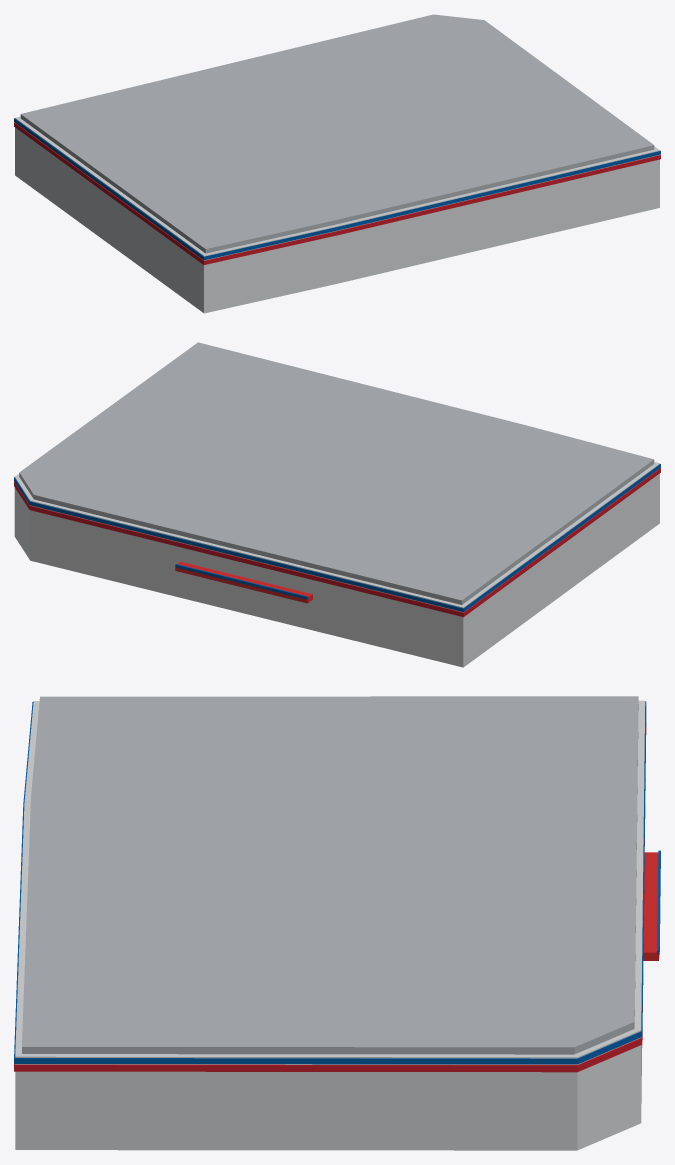
Rendered from costco-taichung.glb.
3 views of the same model, one above another, from view 1: azimuth 30°, elevation 25°; view 2: azimuth 150°, elevation 25°; view 3: azimuth 270°, elevation 25° (orthographic). The views are drawn at different scales.
Visible parts, largest first — view 1: costco-taichung; view 2: costco-taichung; view 3: costco-taichung.
Part boxes in pixels (box(x1,y1,x2,y2)): costco-taichung: box(14, 14, 660, 313); costco-taichung: box(14, 342, 660, 667); costco-taichung: box(14, 696, 660, 1150).
Bounding box in the file's own units: 128 × 16.8 × 98.07.
